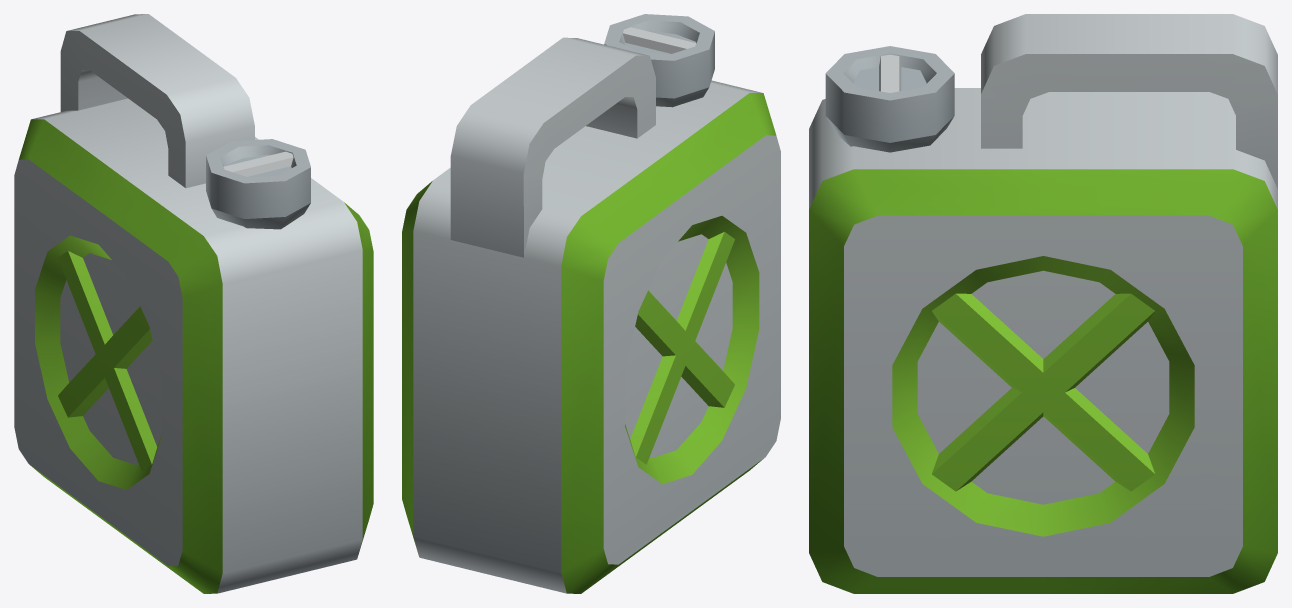
The model's file is Gas_can_006.fbx.
The picture shows the model from 3 angles, left to right: view 1: azimuth 30°, elevation 25°; view 2: azimuth 150°, elevation 25°; view 3: azimuth 270°, elevation 25°; orthographic projection. The views are drawn at different scales.
Parts seen in each view (by area): view 1: Gas_can_006; view 2: Gas_can_006; view 3: Gas_can_006.
Part boxes in pixels (bbox=[...]): Gas_can_006: bbox=[14, 14, 373, 593]; Gas_can_006: bbox=[402, 14, 780, 593]; Gas_can_006: bbox=[809, 14, 1277, 593].
Bounding box in the file's own units: 25.09 × 44.91 × 54.91.
